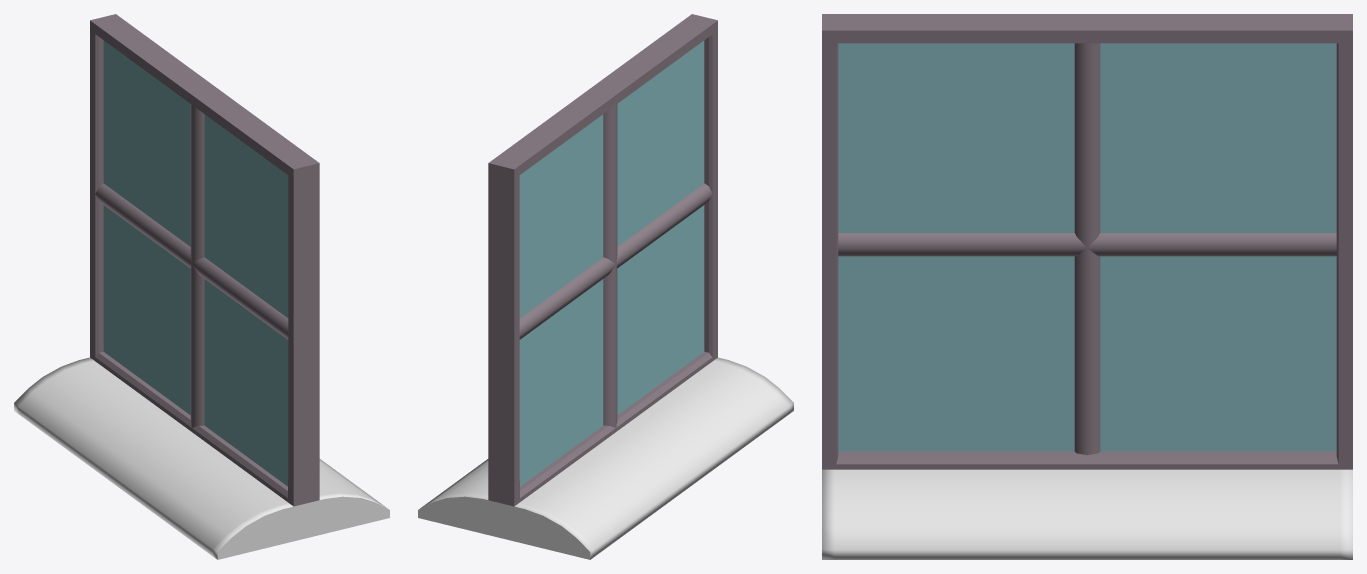
The model's file is GB_101_102_window.glb.
3 renders of one model, left to right at view 1: azimuth 30°, elevation 25°; view 2: azimuth 150°, elevation 25°; view 3: azimuth 270°, elevation 25°, orthographic. The views are drawn at different scales.
Visible parts, largest first — view 1: window.001, Cylinder.002, Cylinder.001; view 2: window.001, Cylinder.002, Cylinder.001; view 3: window.001, Cylinder.001, Cylinder.002.
Part boxes in pixels (bbox=[...]): window.001: bbox=[14, 14, 389, 559]; Cylinder.002: bbox=[190, 97, 204, 431]; Cylinder.001: bbox=[95, 183, 288, 339]; window.001: bbox=[418, 14, 793, 559]; Cylinder.002: bbox=[603, 97, 617, 431]; Cylinder.001: bbox=[519, 183, 712, 339]; window.001: bbox=[822, 14, 1352, 559]; Cylinder.001: bbox=[838, 233, 1336, 256]; Cylinder.002: bbox=[1074, 43, 1100, 455].
Bounding box in the file's own units: 0.7317 × 1.51 × 1.5.
